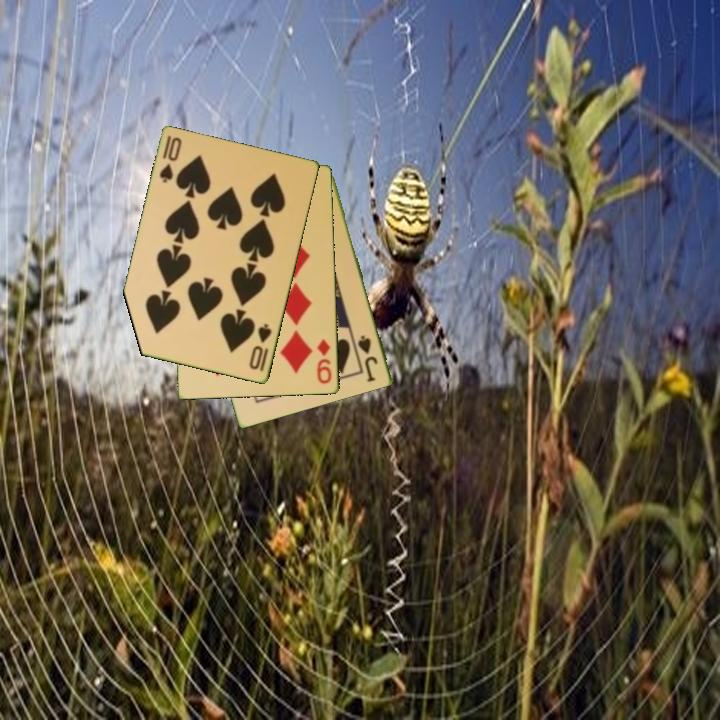10s: (246, 321, 275, 375), (156, 132, 185, 186)
9d: (314, 336, 334, 387)
Js: (355, 332, 381, 385)
